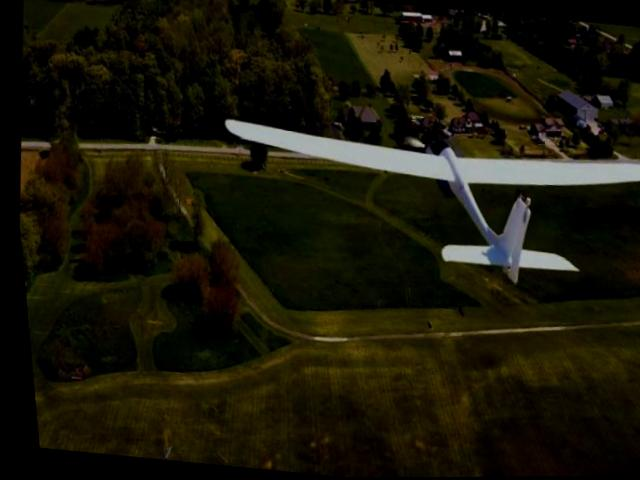iha: (204, 99, 640, 299)
